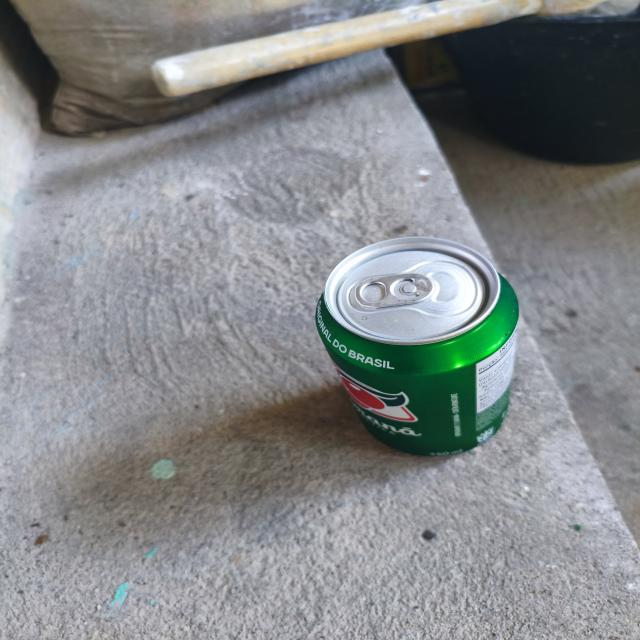Guarana: (272, 238, 547, 445)
